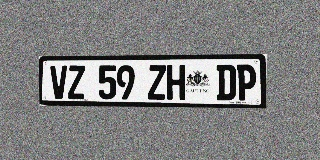5: (99, 65, 116, 99)
9: (117, 65, 135, 99)
D: (216, 64, 236, 100)
H: (167, 65, 185, 100)
P: (236, 64, 256, 101)
V: (50, 65, 67, 99)
Z: (148, 65, 166, 100), (68, 65, 85, 99)
